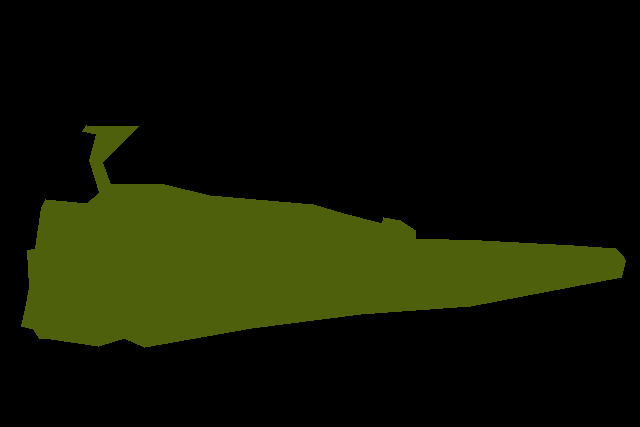Train: (21, 125, 626, 348)
